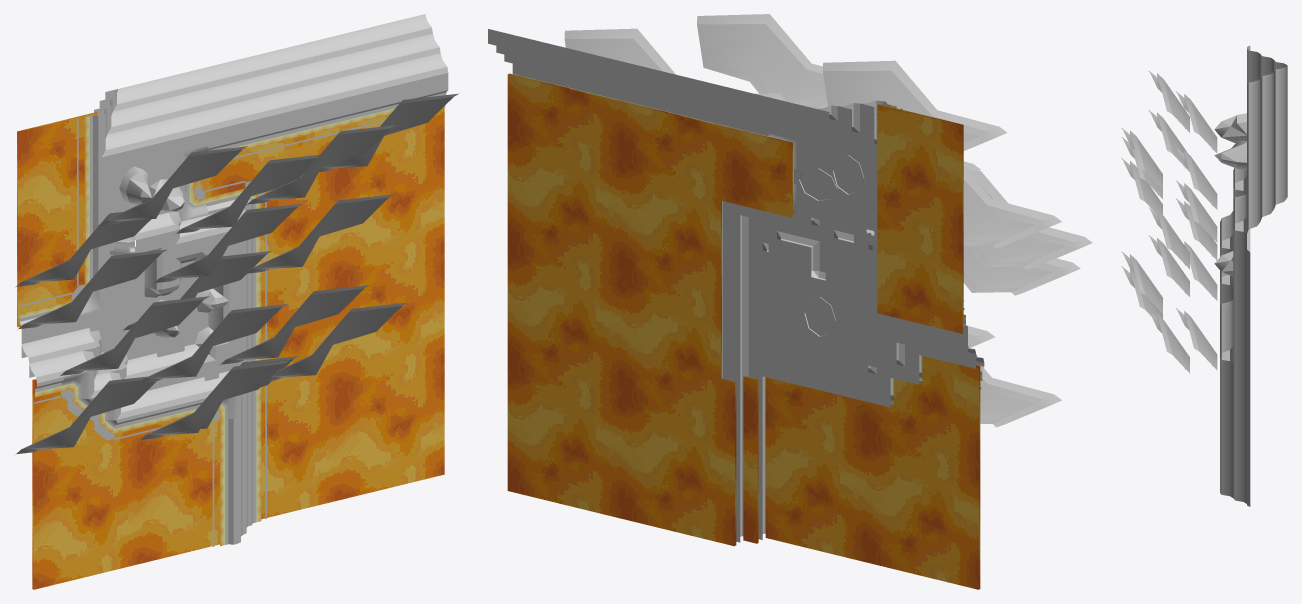
The model's file is Mount-Undara-1_02_04.obj.
3 renders of one model, left to right at view 1: azimuth 30°, elevation 25°; view 2: azimuth 150°, elevation 25°; view 3: azimuth 270°, elevation 25°, orthographic. The views are drawn at different scales.
Parts seen in each view (by area): view 1: map; view 2: map; view 3: map.
Part boxes in pixels (x1=…): map: x1=15, y1=14, x2=458, y2=589; map: x1=488, y1=14, x2=1092, y2=589; map: x1=1121, y1=46, x2=1287, y2=506.
Bounding box in the file's own units: 36.59 × 32 × 12.28.
